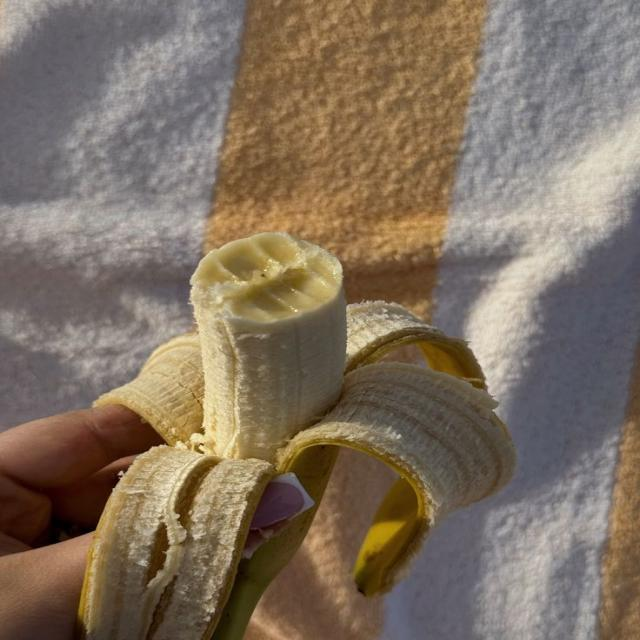banana: (81, 234, 514, 639), (191, 233, 346, 459), (94, 333, 204, 446)
